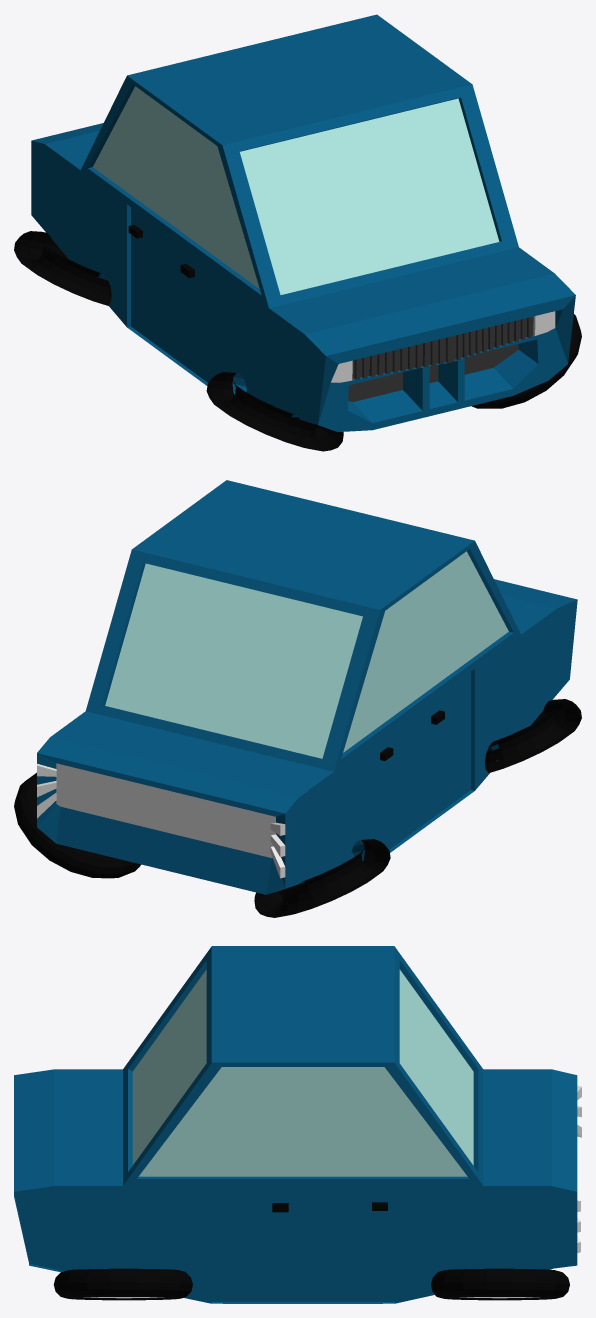
Rendered from Futuristic_car.fbx.
3 renders of one model, top to bottom at view 1: azimuth 30°, elevation 25°; view 2: azimuth 150°, elevation 25°; view 3: azimuth 270°, elevation 25°, orthographic. The views are drawn at different scales.
Visible parts, largest first — view 1: Torus.004; view 2: Torus.004; view 3: Torus.004.
Boxes of the visible parts, x1,y1,x2,y2 form: Torus.004: [14, 14, 581, 451]; Torus.004: [14, 480, 581, 917]; Torus.004: [14, 946, 581, 1303].
Bounding box in the file's own units: 1751 × 1292 × 2557.
